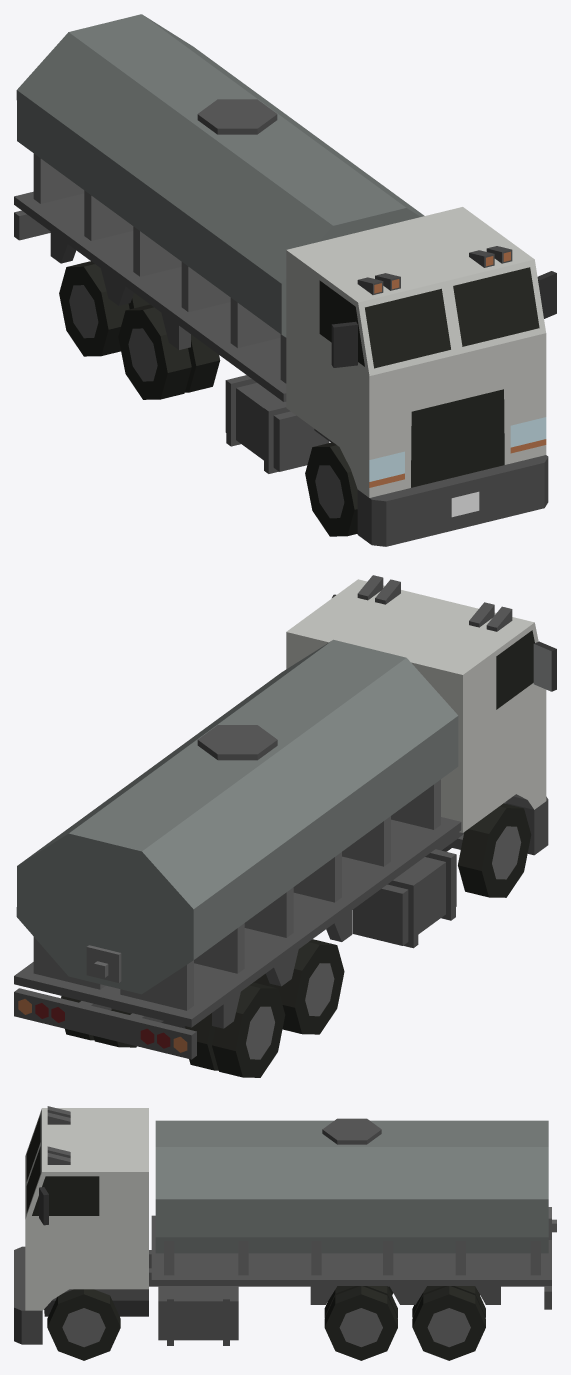
Rendered from Veh_Truck_03_Tank_White.glb.
3 views of the same model, one above another, from view 1: azimuth 30°, elevation 25°; view 2: azimuth 150°, elevation 25°; view 3: azimuth 270°, elevation 25° (orthographic). The views are drawn at different scales.
Visible parts, largest first — view 1: Truck_03_White, Wheel_RR1, Wheel_RR2, Wheel_FR; view 2: Truck_03_White, Wheel_RR2, Wheel_FR, Wheel_RR1; view 3: Truck_03_White, Wheel_RL1, Wheel_RL2, Wheel_FL.
Part boxes in pixels (x1,y1,x2,y2): Truck_03_White: (14,14,556,546); Wheel_RR1: (118,304,220,399); Wheel_RR2: (59,261,149,356); Wheel_FR: (305,442,357,536); Truck_03_White: (14,575,556,1059); Wheel_RR2: (185,982,285,1077); Wheel_FR: (458,803,531,897); Wheel_RR1: (253,939,344,1034); Truck_03_White: (14,1106,556,1345); Wheel_RL1: (324,1286,397,1360); Wheel_RL2: (412,1286,485,1360); Wheel_FL: (47,1289,120,1360).
Bounding box in the file's own units: 1.68 × 1.94 × 4.78.
1 material, 1 textured.
